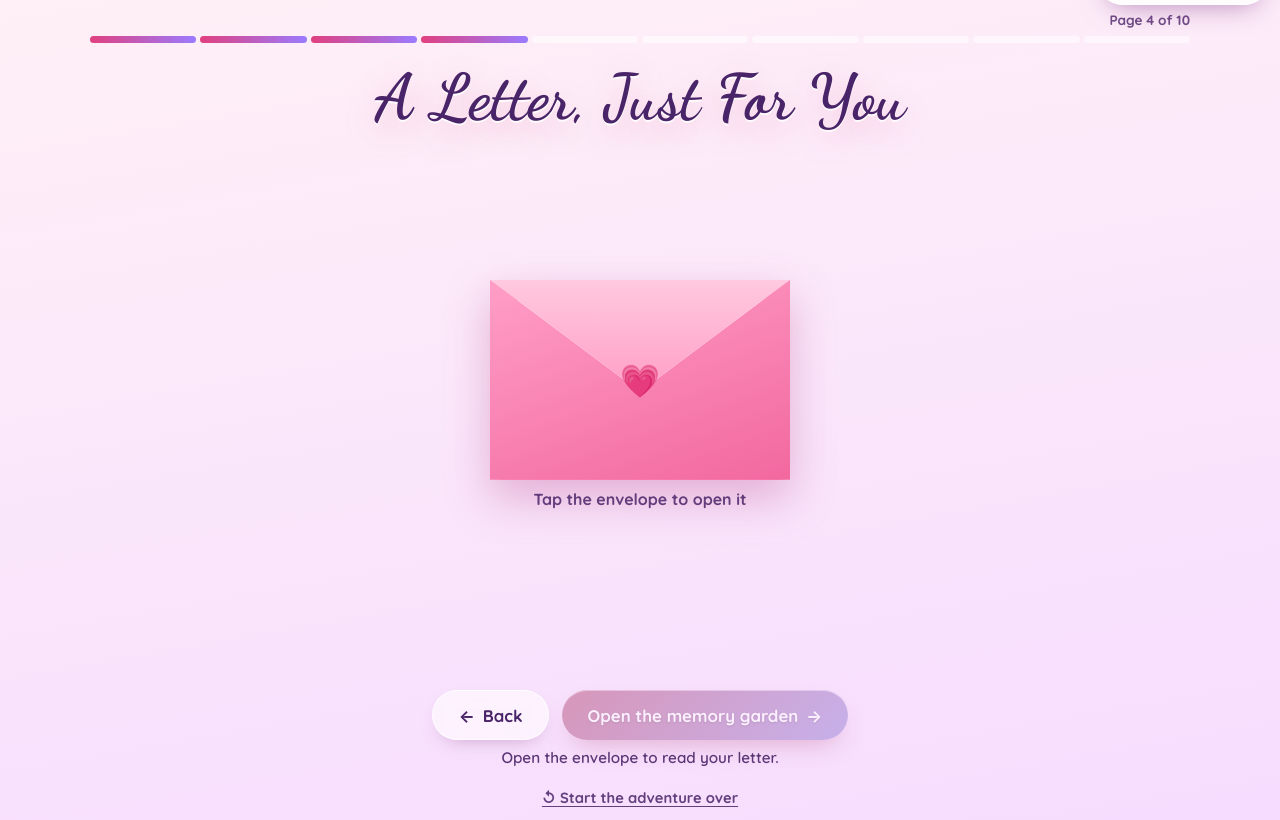
Test case: page 5 love letter › opens the envelope, types the exact letter, then enables the memory garden button
The width and height of the screenshot is (1280, 820).
Expected: the button "Open the memory garden →" is disabled, [562,690,848,740]
Click the button named "open the love letter envelope". click: (640, 380)
box: [490,280,790,480]
(page scrolled)
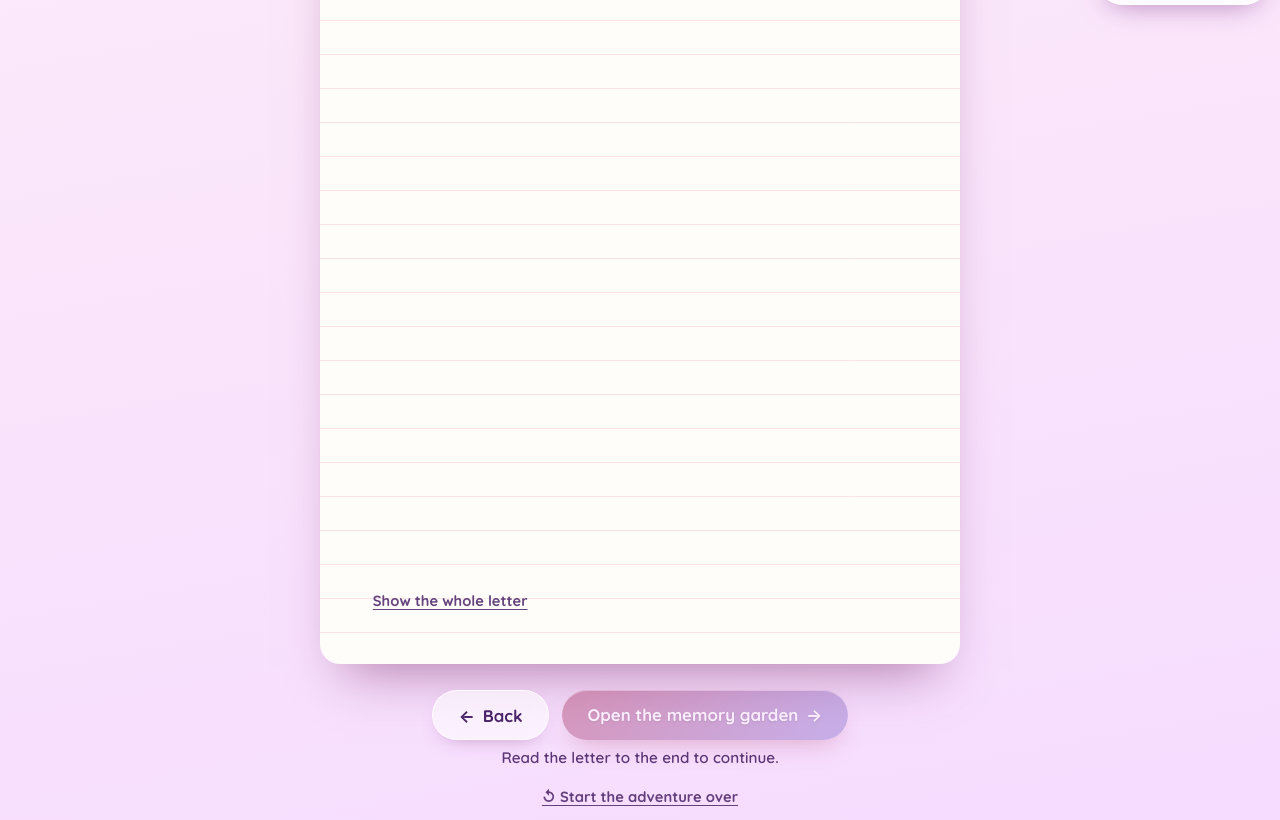
Expected: the button "Show the whole letter" is shown
Click the button "Show the whole letter". click: (450, 601)
box: [362,579,539,623]
(page scrolled)
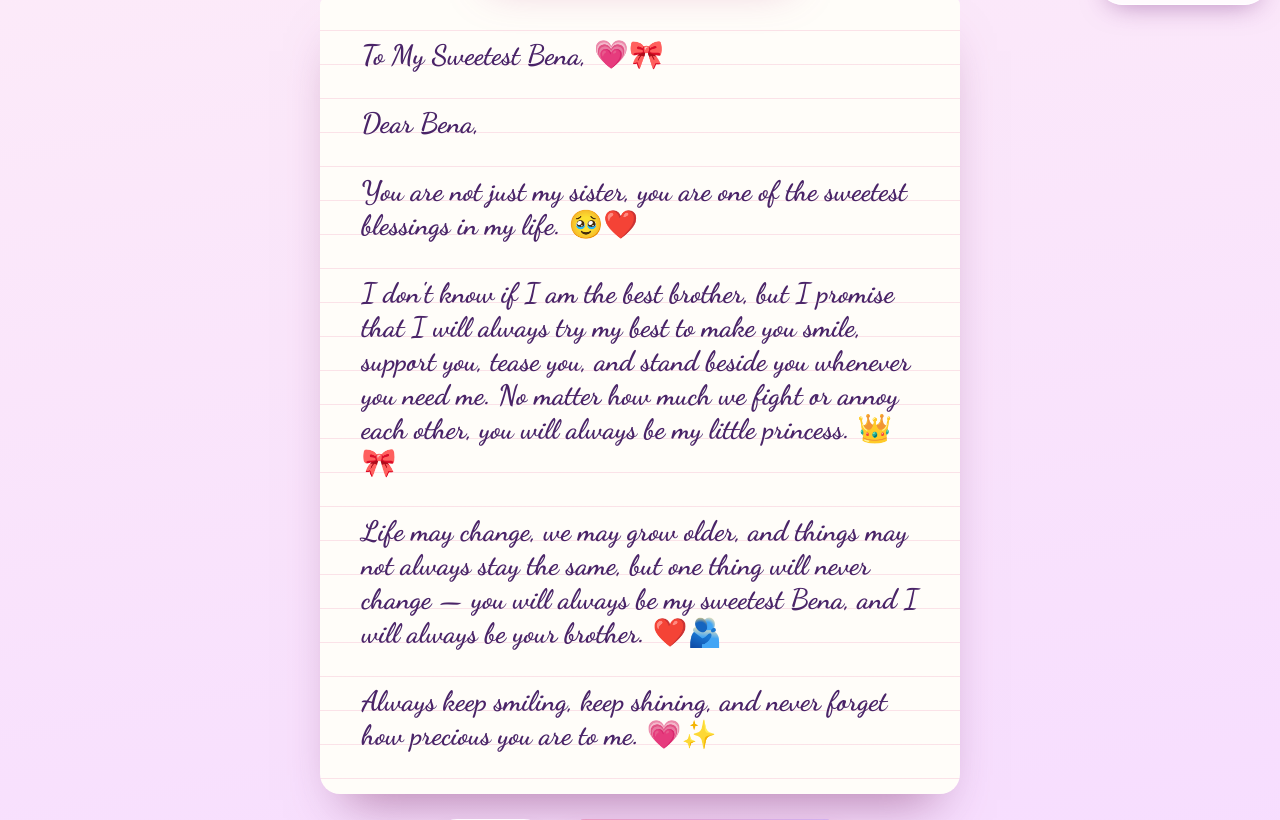
Expected: the element named "love letter from your brother" shows "To My Sweetest Bena, 💗🎀", [362,38,925,752]
